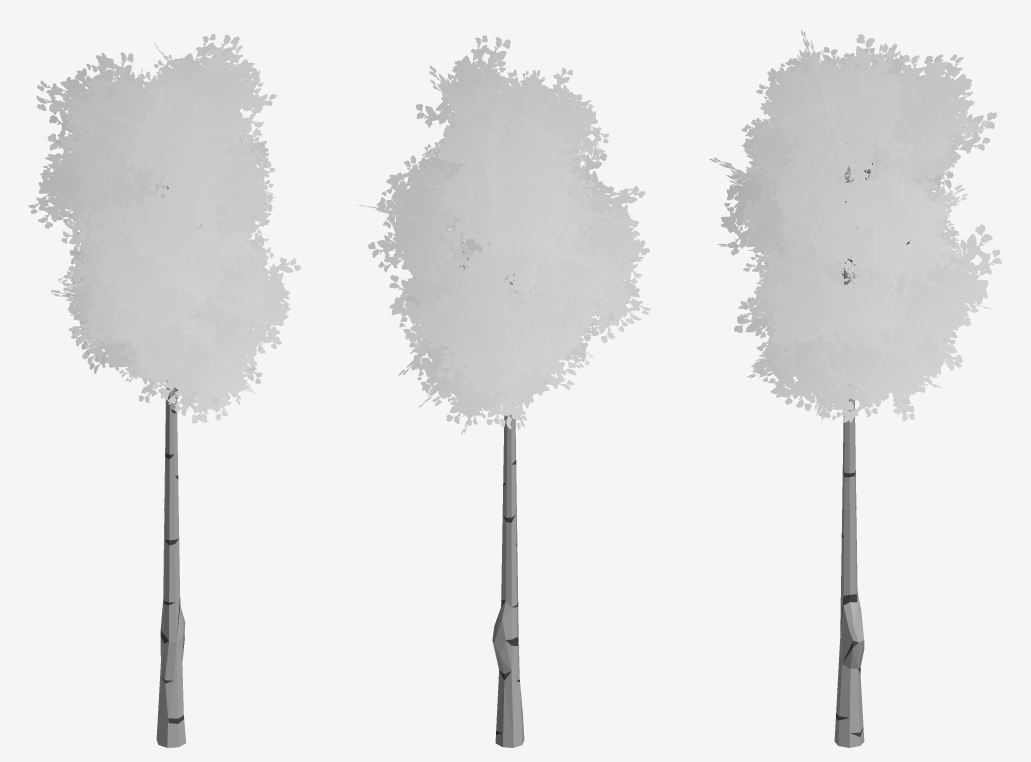
File: mesh_tree_birch_01.fbx
3 renders of one model, left to right at view 1: azimuth 30°, elevation 25°; view 2: azimuth 150°, elevation 25°; view 3: azimuth 270°, elevation 25°, orthographic. The views are drawn at different scales.
Visible parts, largest first — view 1: mesh_tree_birch_01_leaves_LOD0, mesh_tree_birch_01_trunk_LOD0; view 2: mesh_tree_birch_01_leaves_LOD0, mesh_tree_birch_01_trunk_LOD0; view 3: mesh_tree_birch_01_leaves_LOD0, mesh_tree_birch_01_trunk_LOD0.
Boxes of the visible parts, x1,y1,x2,y2 form: mesh_tree_birch_01_leaves_LOD0: (29, 33, 301, 427); mesh_tree_birch_01_trunk_LOD0: (156, 185, 201, 747); mesh_tree_birch_01_leaves_LOD0: (357, 35, 654, 434); mesh_tree_birch_01_trunk_LOD0: (459, 251, 534, 747); mesh_tree_birch_01_leaves_LOD0: (709, 29, 1001, 422); mesh_tree_birch_01_trunk_LOD0: (834, 143, 910, 747).
Size of what is drawn, in the model's own units: 2.96 by 7.42 by 2.98.
